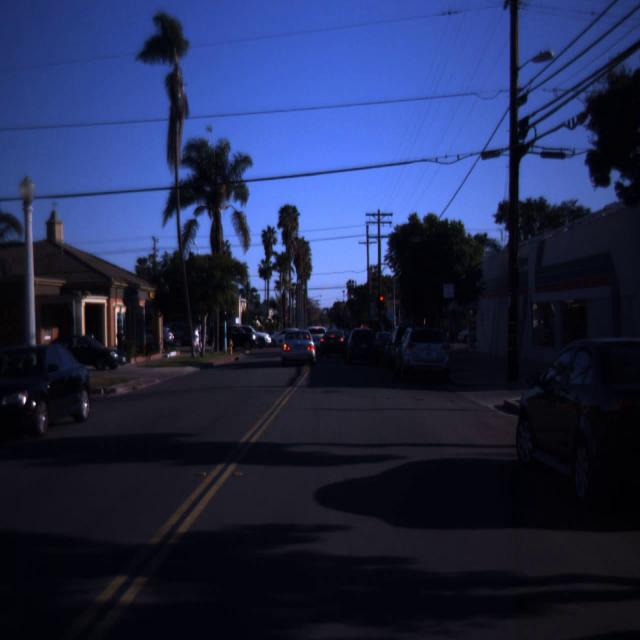stop: (377, 296, 385, 308)
stop traffic light: (377, 296, 385, 308)
